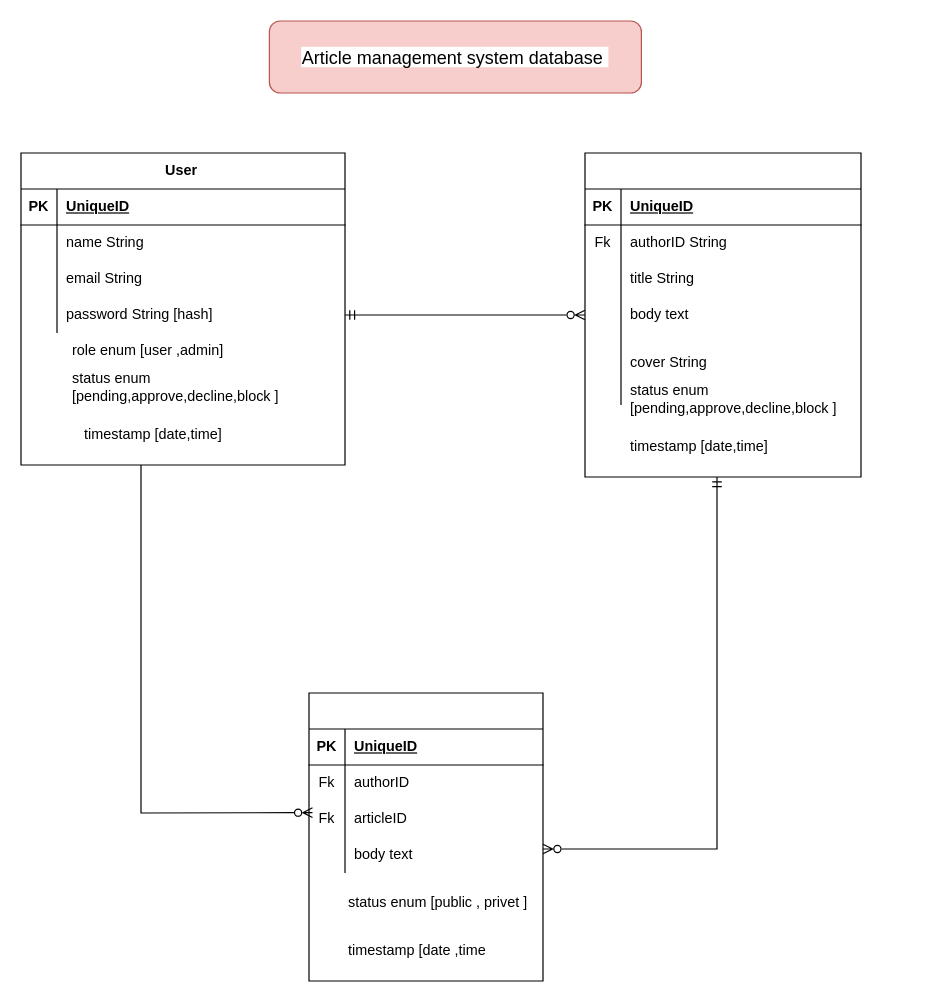
Some shapes in this 930 by 1002 pixel diagram are drawn without their labels. The box of each missing label's shape, as (x1, y1, x2, y2) in pixels:
Article: (584, 152, 861, 477)
Comment: (308, 692, 543, 981)
